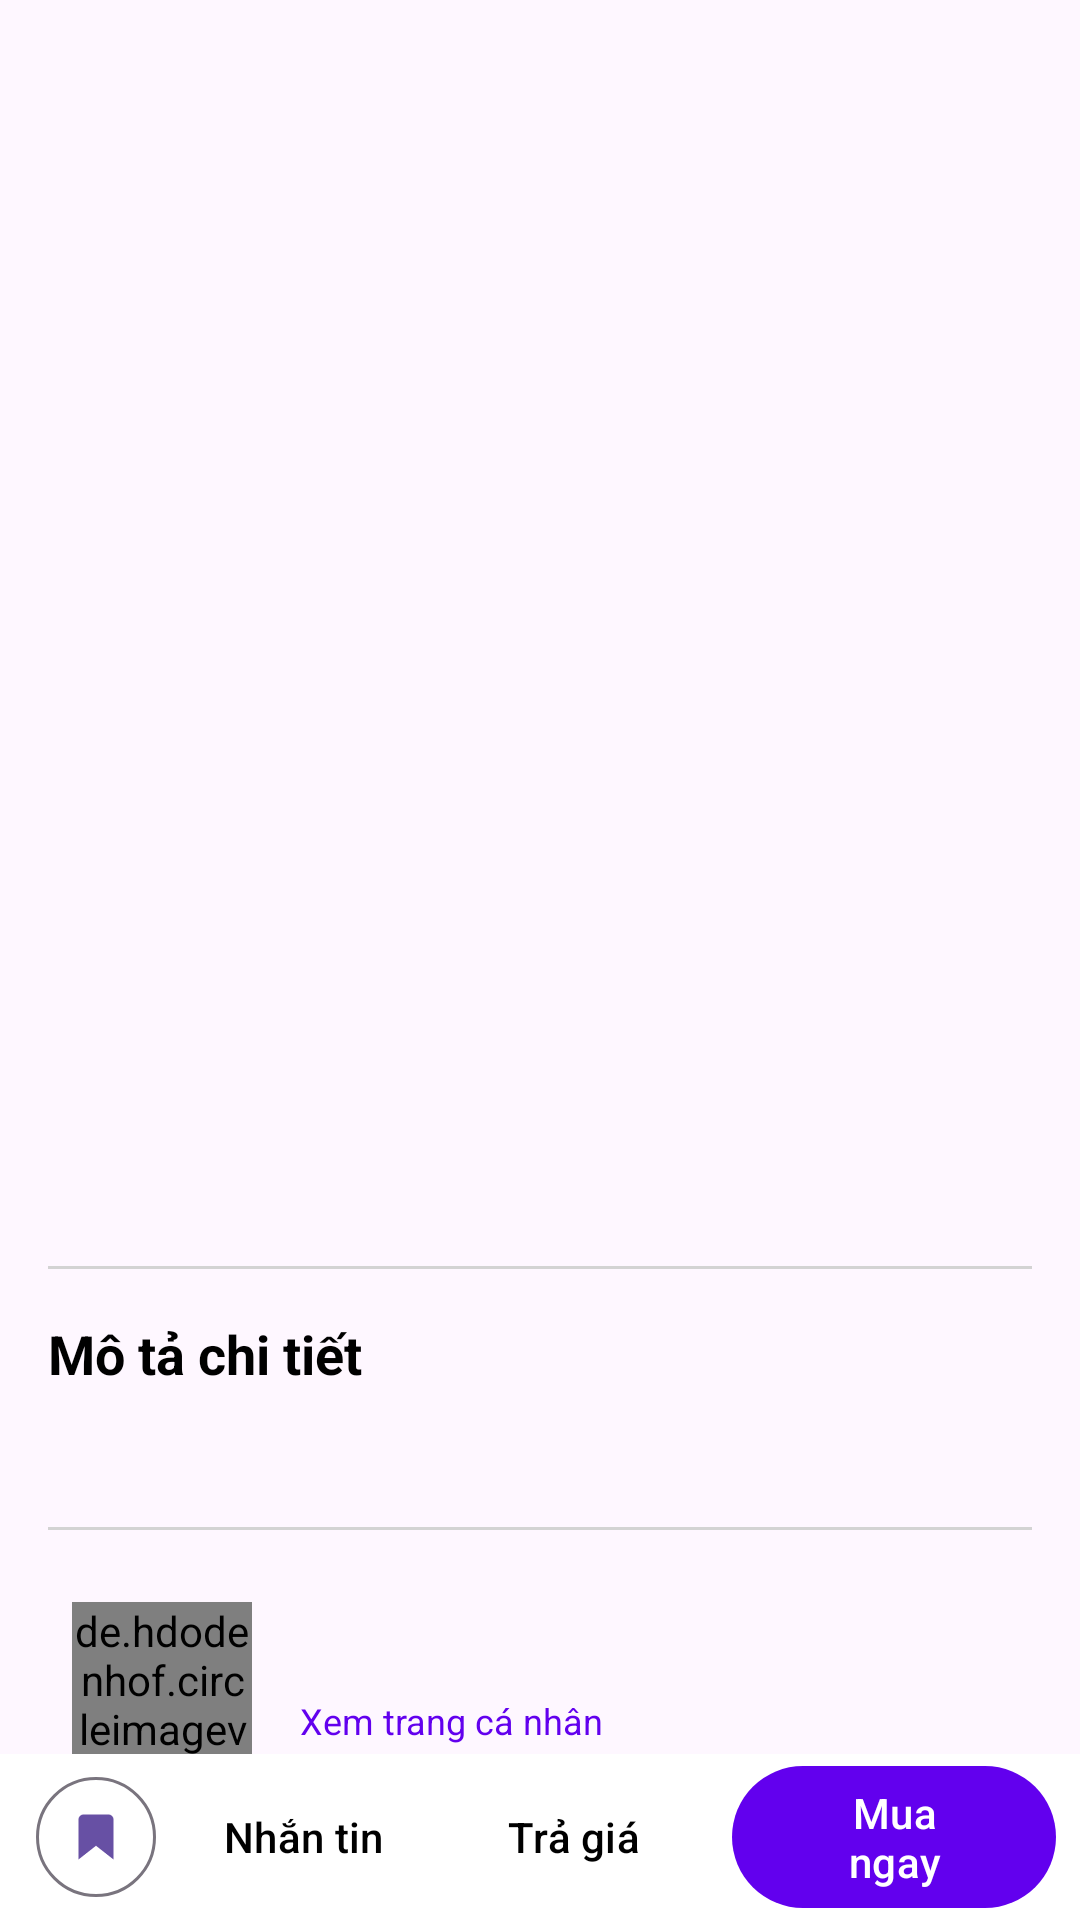

Where to tap for icons on this 1080*1920 app screen, as [x,y]:
bookmark: [96,1837]
